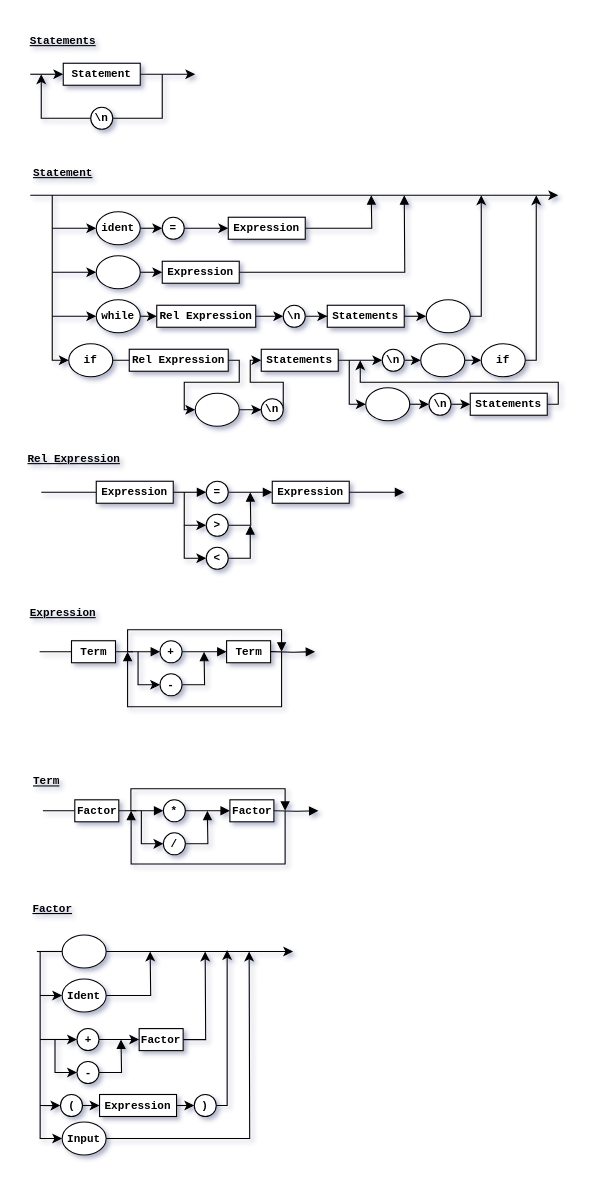
Image size: 593x1180. Some labels were removed from this diagram. The centre of each missing label's shape, as x and y in pixels:
"else" goes at (387,404).
"end" goes at (442,360).
"Int" goes at (83,951).
"print" goes at (117,272).
"then" goes at (216,409).
"wend" goes at (447,316).
